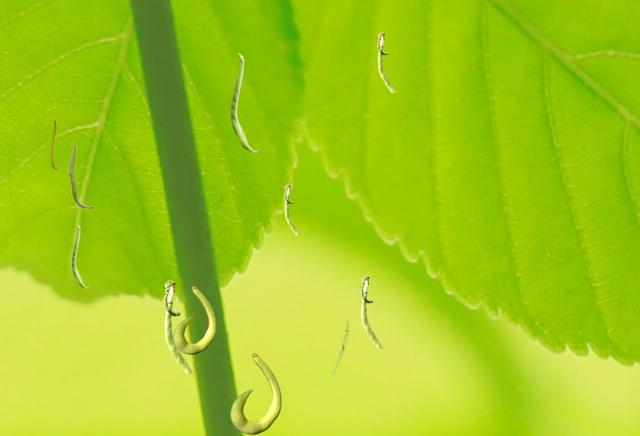french_bean: (230, 353, 280, 433), (231, 53, 260, 151), (173, 286, 215, 353), (163, 280, 193, 373), (68, 141, 94, 208), (360, 275, 382, 347), (72, 224, 90, 287), (331, 317, 348, 380), (377, 32, 395, 91), (284, 184, 299, 234), (50, 118, 57, 168)
